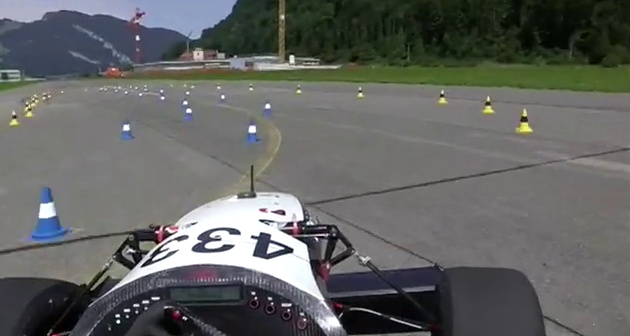Cone: (28, 185, 73, 246), (514, 107, 535, 134), (245, 117, 262, 146), (119, 117, 137, 141), (481, 94, 497, 115), (436, 87, 449, 106), (8, 109, 21, 127)
